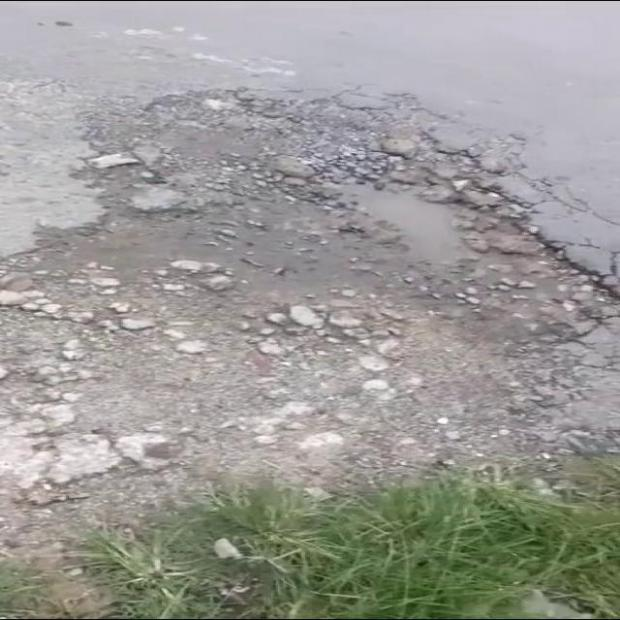lubang: (0, 93, 619, 466)
